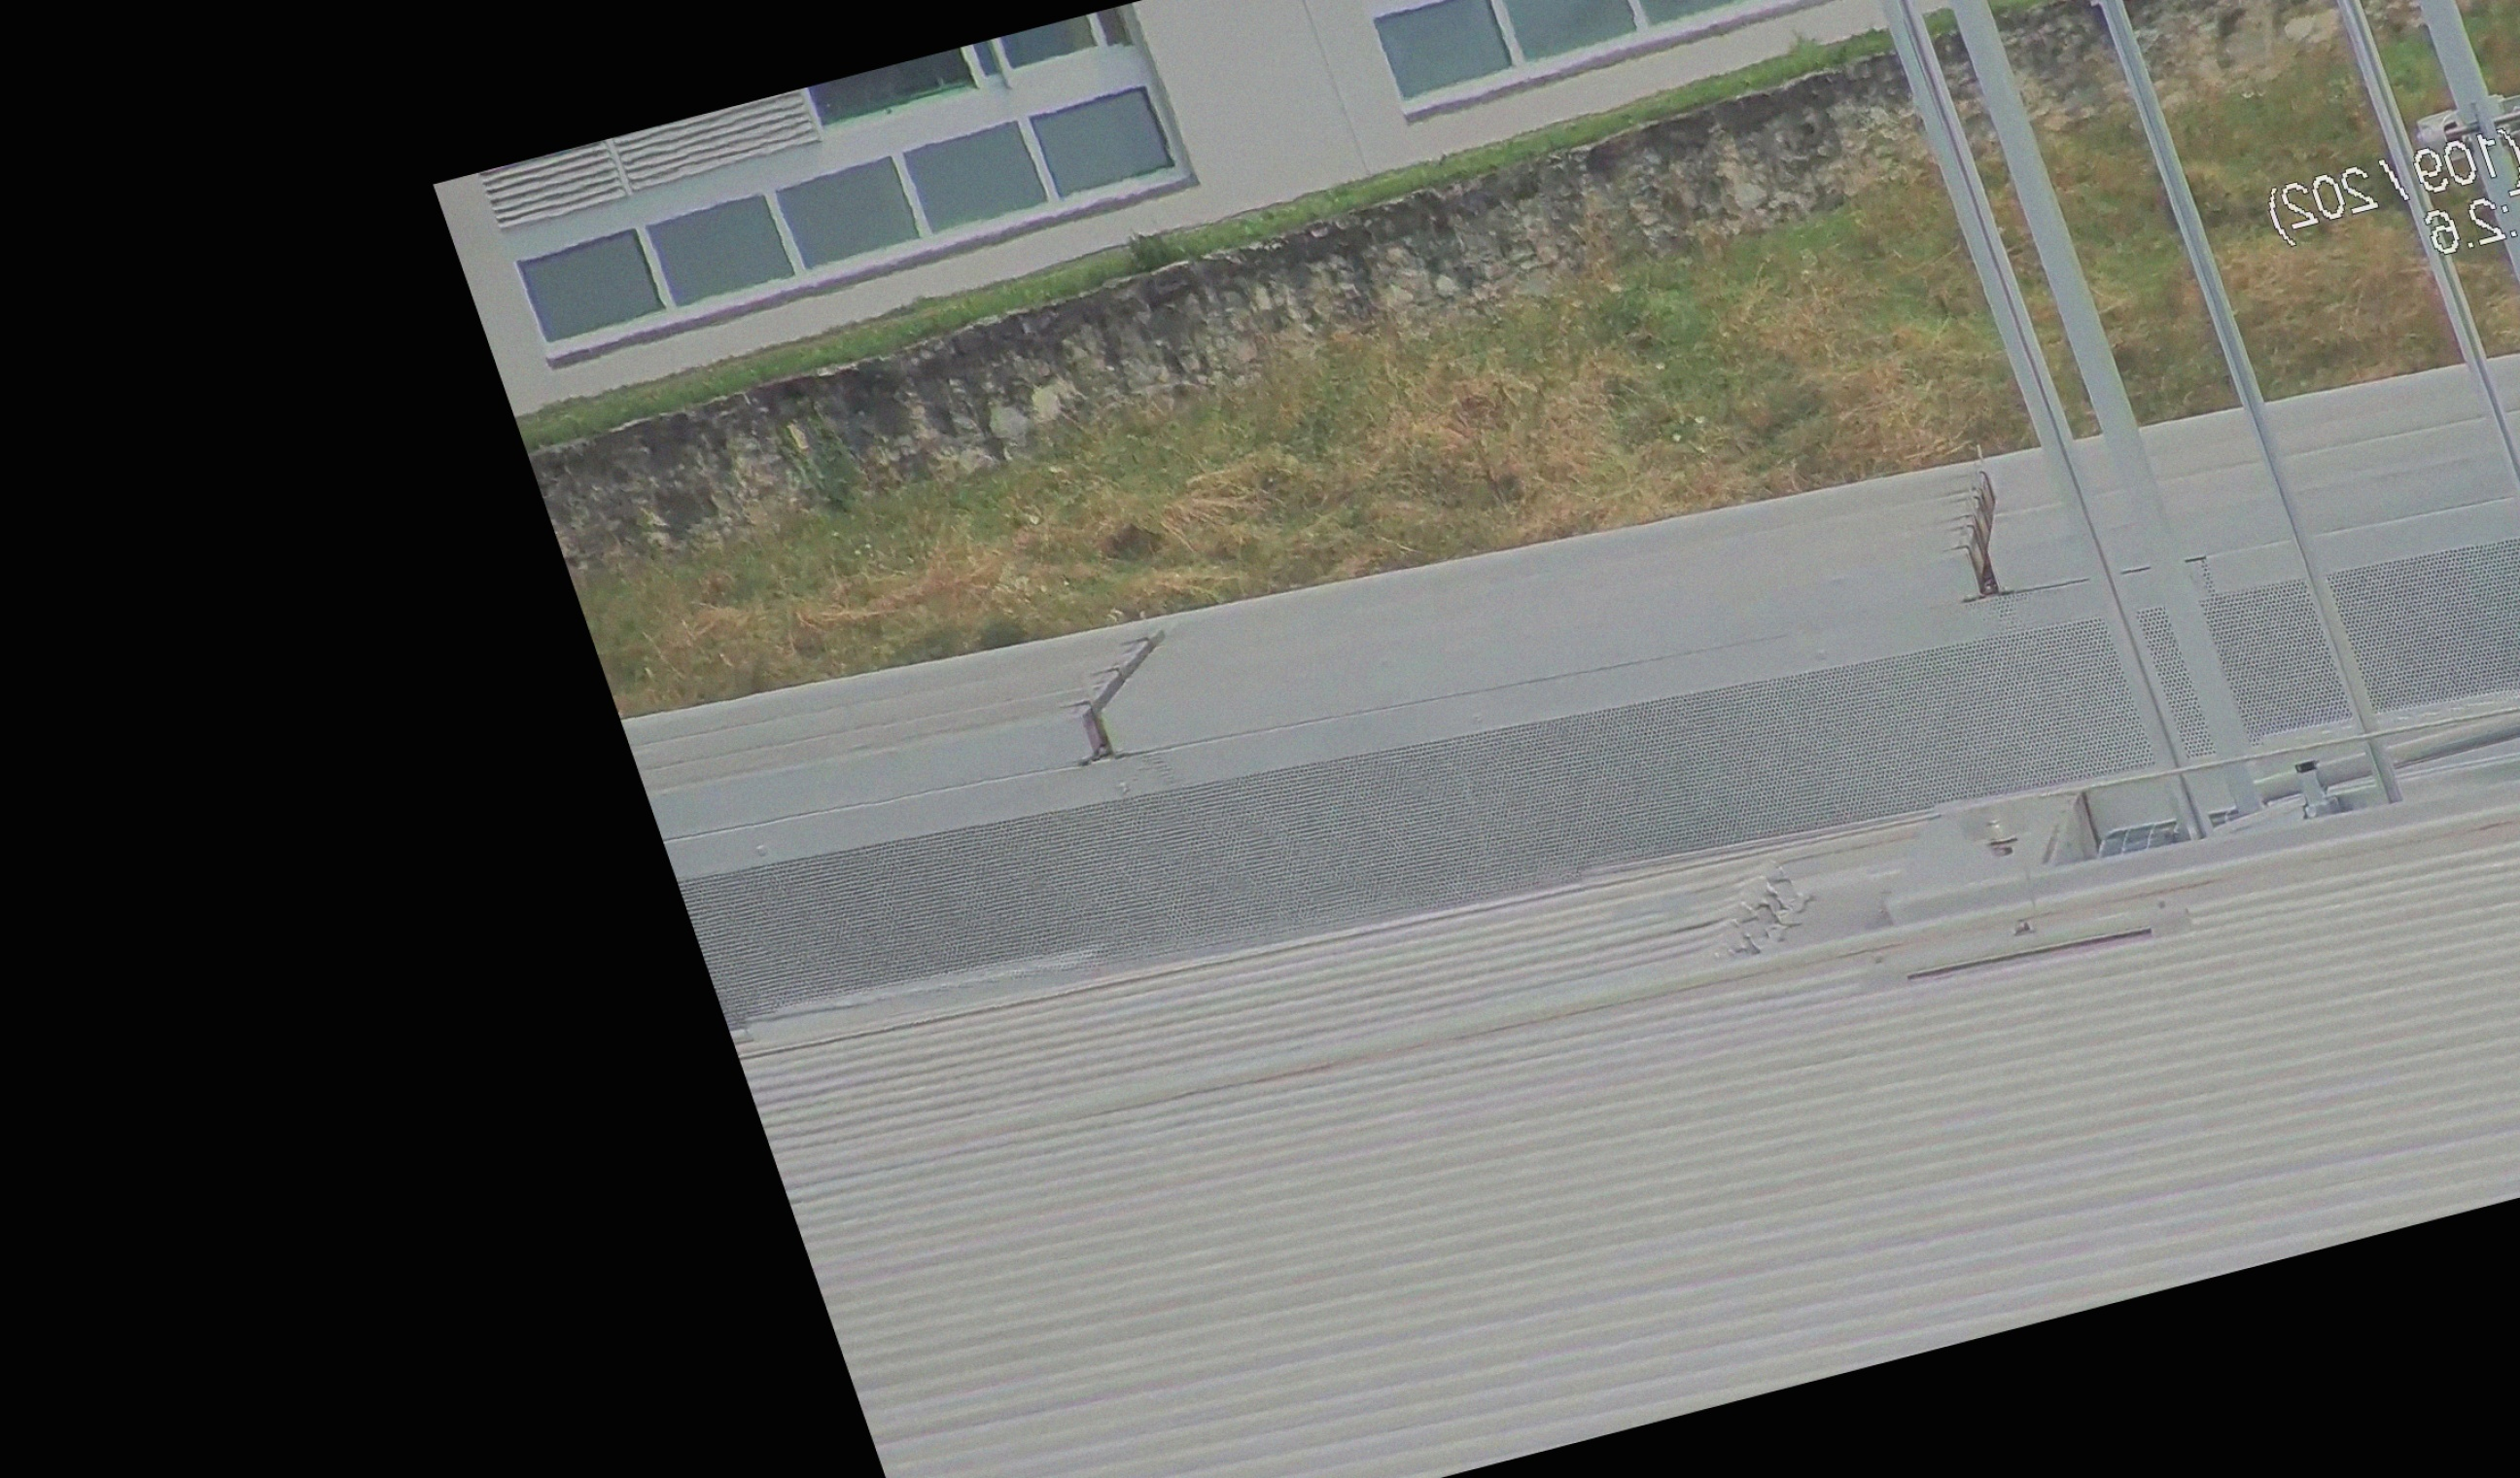Other: (1903, 442, 2047, 616)
